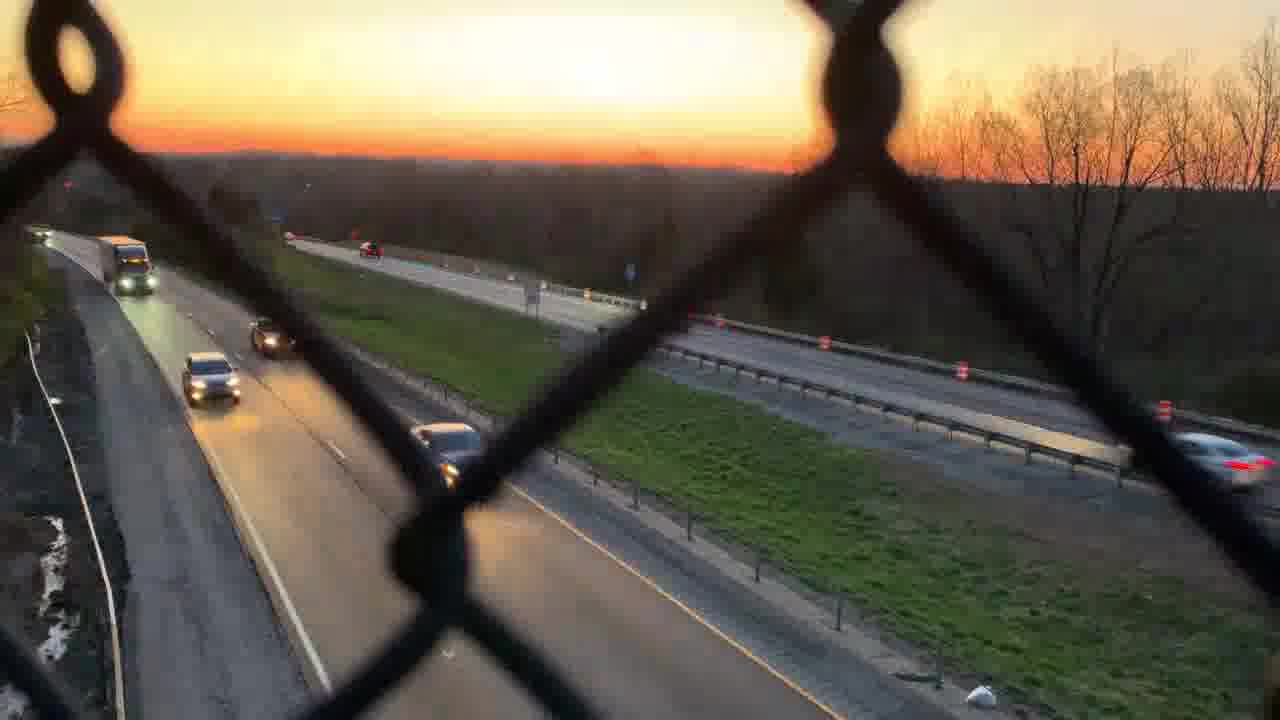heavyTruck: (89, 233, 163, 300)
largeCar: (183, 352, 241, 406)
smallCar: (1124, 421, 1274, 486)
